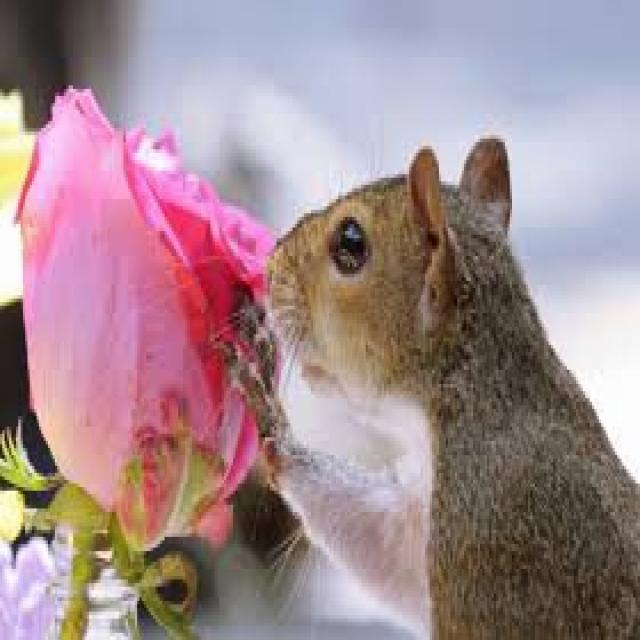squirrel: (235, 135, 640, 636)
